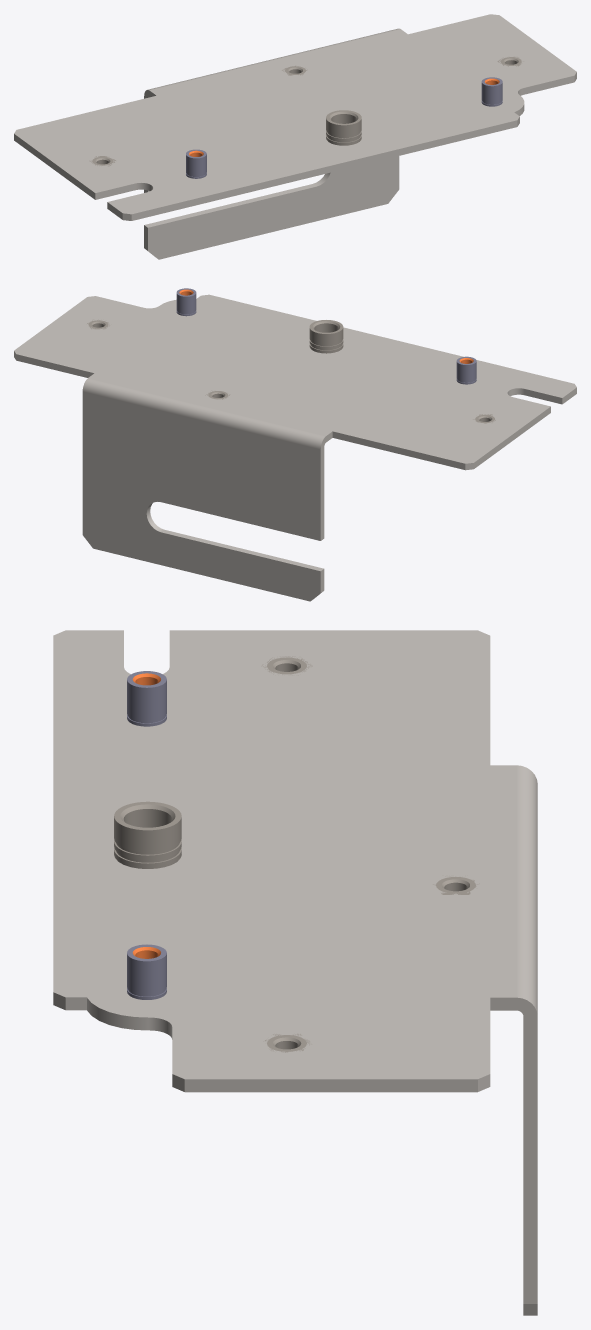
3 views of the same model, one above another, from view 1: azimuth 30°, elevation 25°; view 2: azimuth 150°, elevation 25°; view 3: azimuth 270°, elevation 25° (orthographic). The views are drawn at different scales.
Visible parts, largest first — view 1: carbon steel, matte steel, color; view 2: carbon steel, matte steel, color; view 3: carbon steel, matte steel, color.
Boxes of the visible parts, bbox=[...] form: carbon steel: bbox=[14, 14, 576, 259]; matte steel: bbox=[89, 56, 523, 166]; color: bbox=[186, 77, 502, 178]; carbon steel: bbox=[14, 294, 576, 601]; matte steel: bbox=[87, 319, 495, 423]; color: bbox=[176, 288, 476, 384]; carbon steel: bbox=[53, 630, 537, 1315]; matte steel: bbox=[114, 656, 479, 1052]; color: bbox=[127, 671, 166, 999].
Bounding box in the file's own units: 0.1118 × 0.0426 × 0.051.
